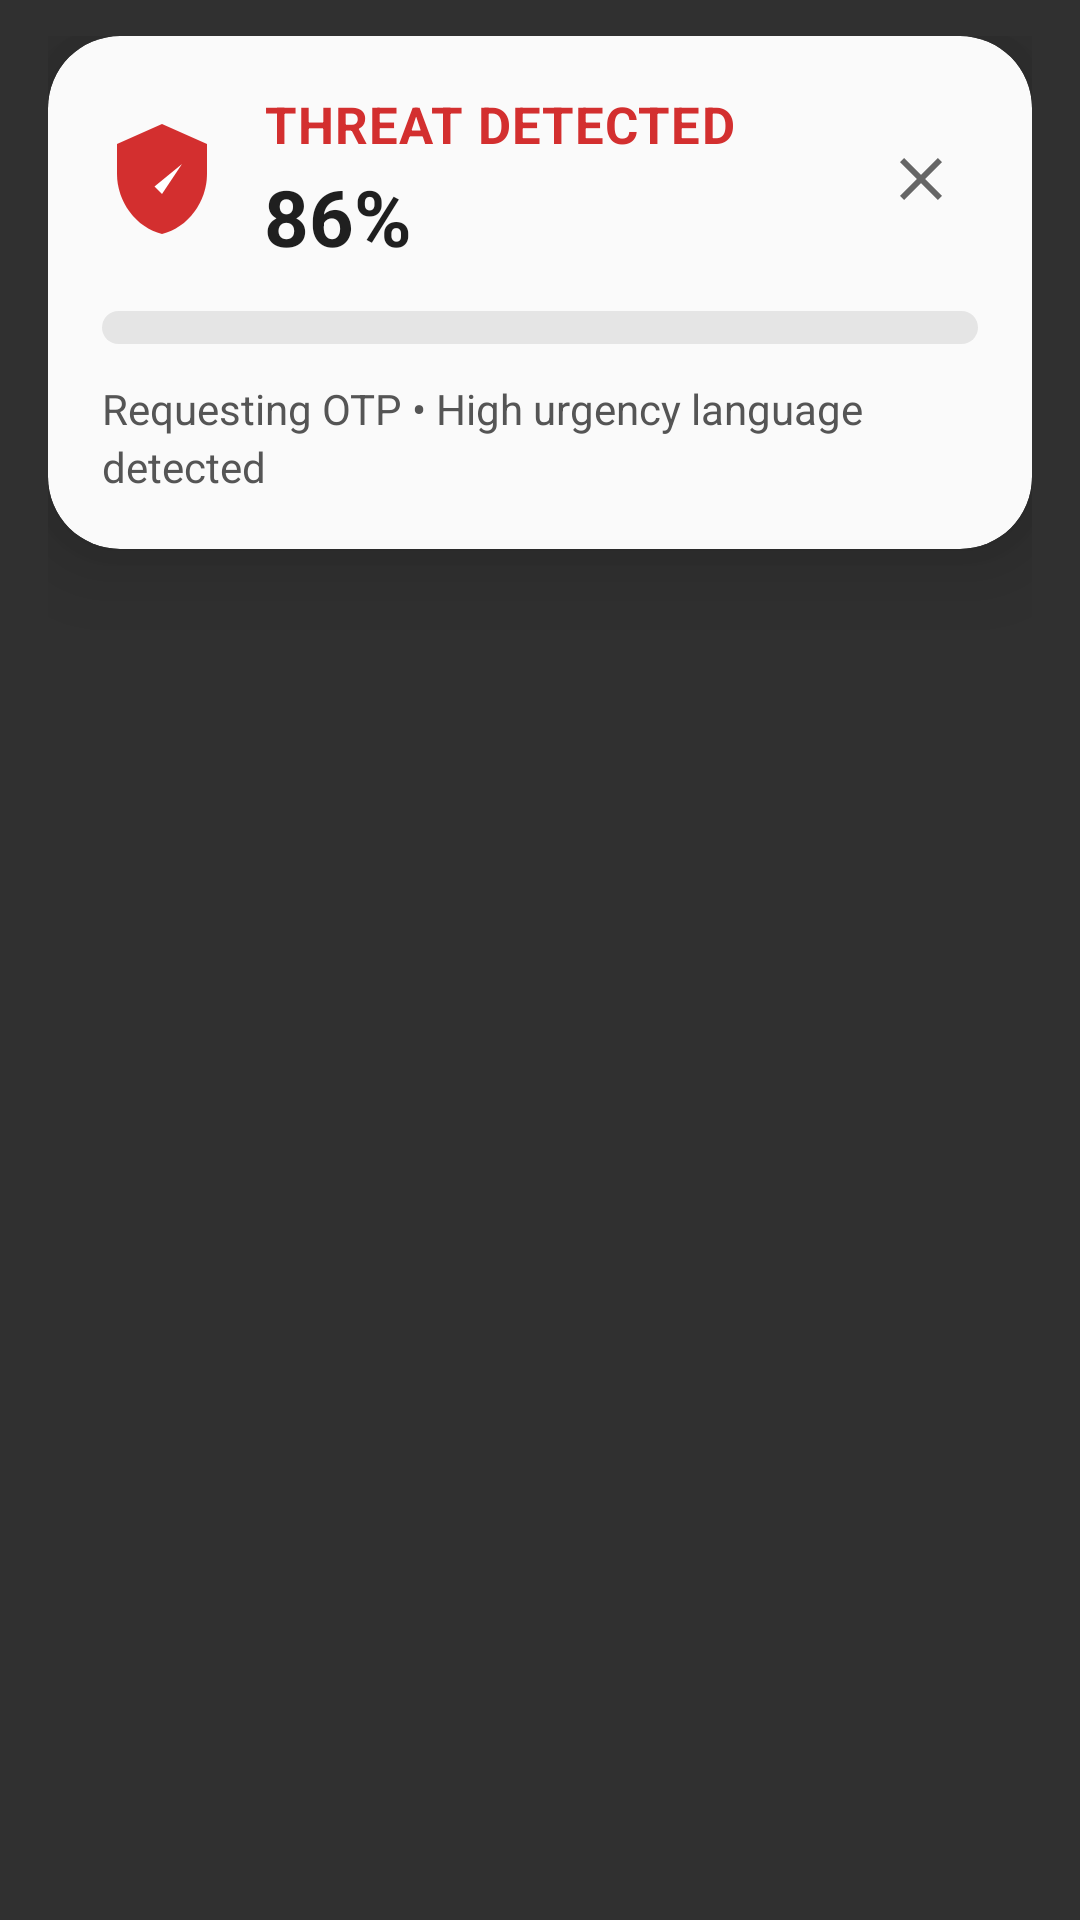

Named icons in this screenshot (1080*1920) and their centers, (x=x, y=y):
close: (x=921, y=179)
shield pro: (x=162, y=179)
